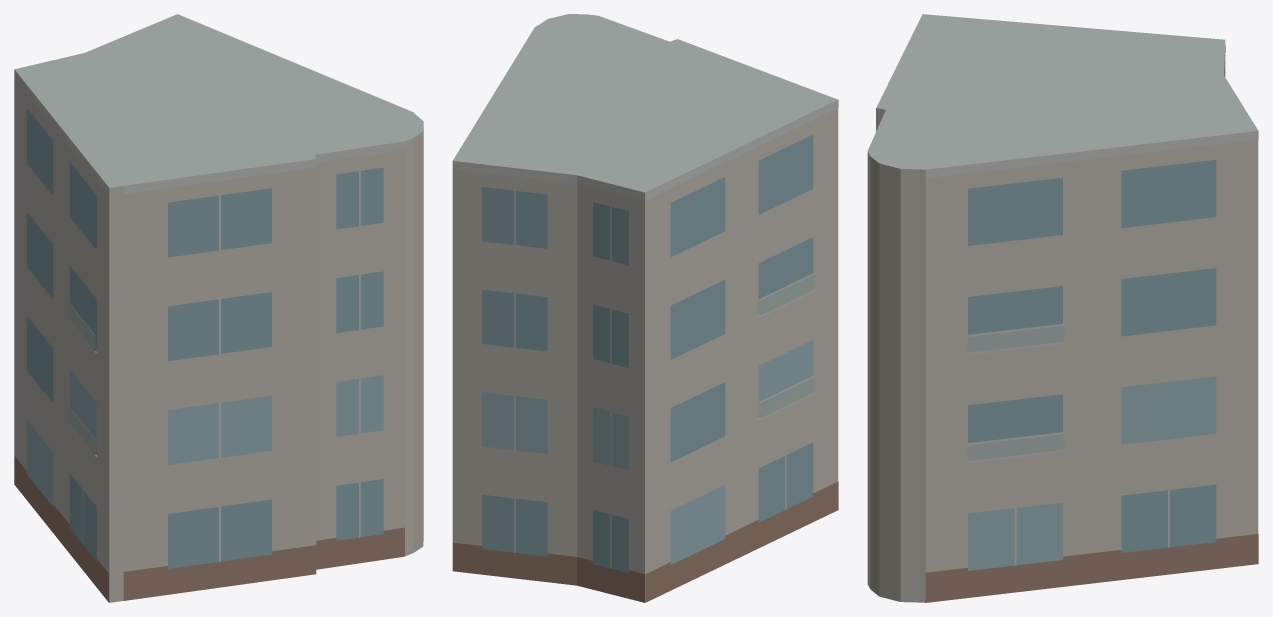
File: survey-upis-32586435.glb
The picture shows the model from 3 angles, left to right: view 1: azimuth 30°, elevation 25°; view 2: azimuth 150°, elevation 25°; view 3: azimuth 270°, elevation 25°; orthographic projection. The views are drawn at different scales.
Visible parts, largest first — view 1: survey-upis-32586435.tmp; view 2: survey-upis-32586435.tmp; view 3: survey-upis-32586435.tmp.
Part boxes in pixels (x1,y1,x2,y2): survey-upis-32586435.tmp: (14,14,423,602); survey-upis-32586435.tmp: (452,14,838,602); survey-upis-32586435.tmp: (867,14,1258,602).
Size of the model in its own units: 9.41 by 12.2 by 9.99.
